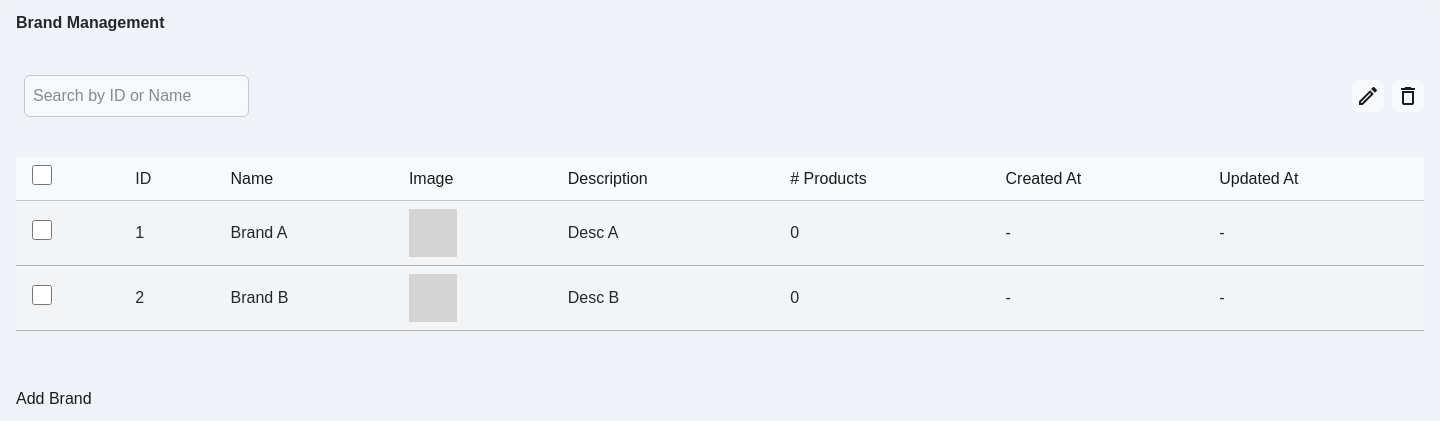
Test: BrandTable › shows alert if trying to delete with nothing selected
The width and height of the screenshot is (1440, 421).
# Click the first visible delete button (toolbar)
What coordinates should you click on to do the following:
click the button titled "delete selected brand"
I would click on:
 (1408, 96)
Its box is [1392,80,1424,112].
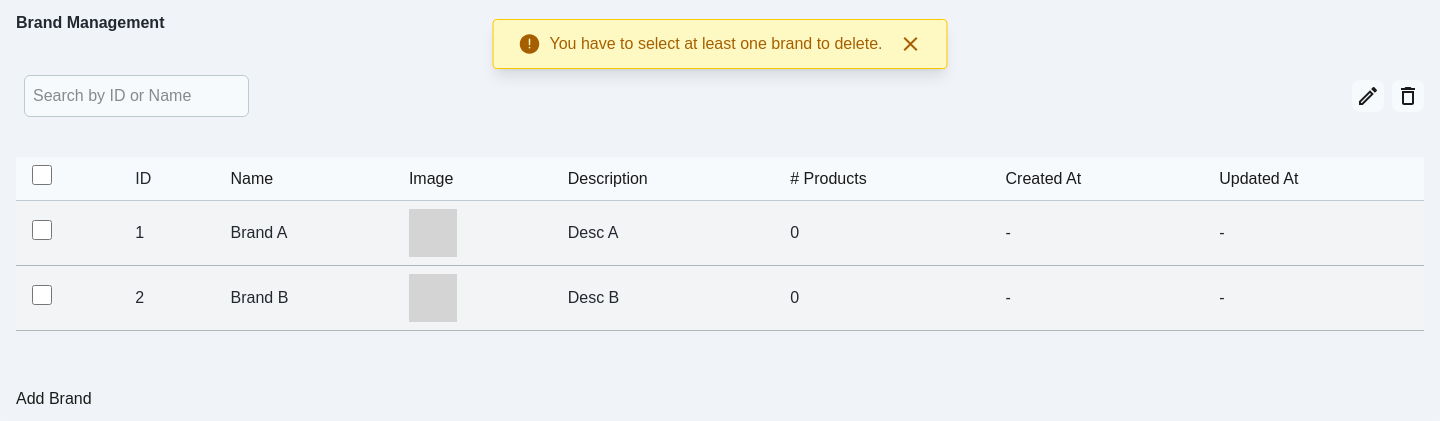
Check: the text "You have to select at least one brand to delete." is shown, box [550,32,882,56]
